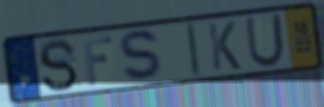F: (80, 34, 115, 88)
I: (184, 21, 203, 79)
K: (205, 20, 243, 72)
S: (117, 28, 168, 84), (36, 37, 80, 94)
U: (243, 12, 286, 70)
